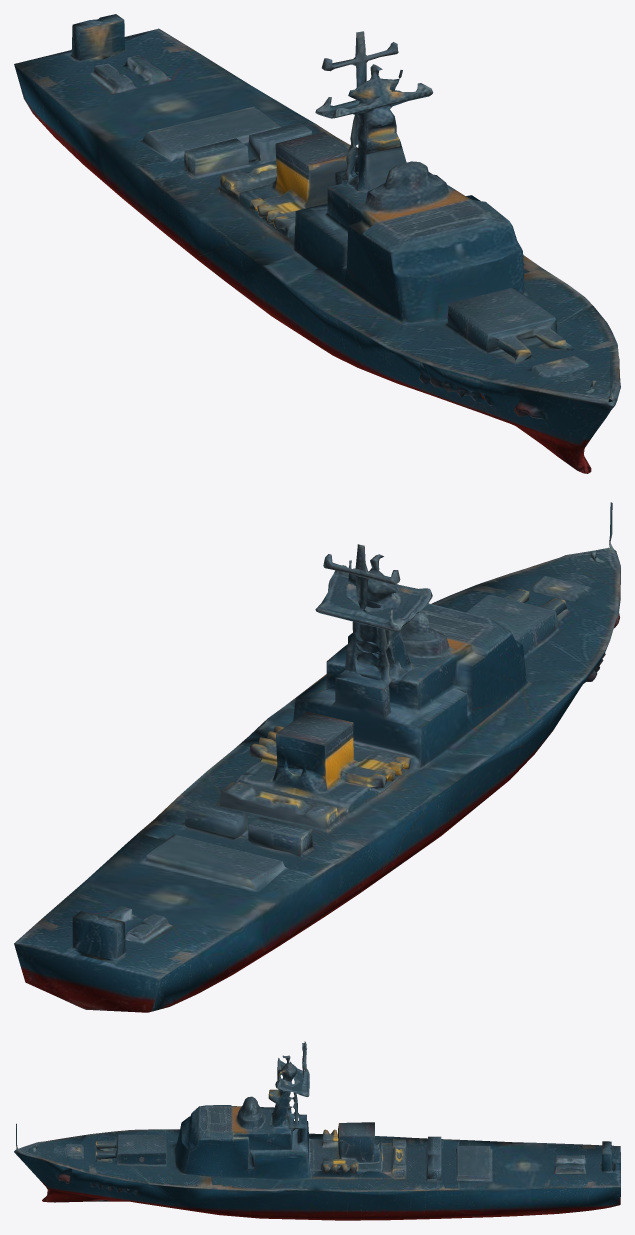
Rendered from frigate.glb.
3 views of the same model, one above another, from view 1: azimuth 30°, elevation 25°; view 2: azimuth 150°, elevation 25°; view 3: azimuth 270°, elevation 25° (orthographic). The views are drawn at different scales.
Visible parts, largest first — view 1: frigate-Meshy-cleaned; view 2: frigate-Meshy-cleaned; view 3: frigate-Meshy-cleaned.
Part boxes in pixels (x1,y1,x2,y2): frigate-Meshy-cleaned: [14, 14, 620, 473]; frigate-Meshy-cleaned: [14, 502, 620, 1012]; frigate-Meshy-cleaned: [14, 1041, 620, 1220].
Bounding box in the file's own units: 0.4321 × 0.5547 × 1.9.
Materials: 1 (1 with a texture image).
